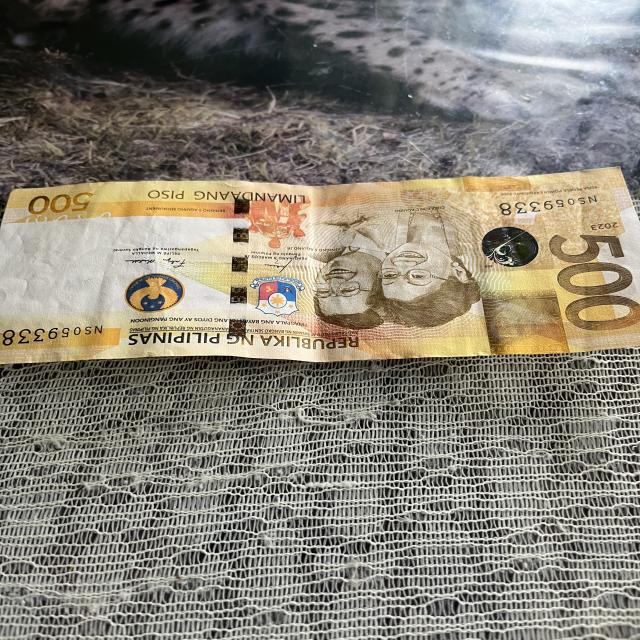concealed_value: (485, 290, 571, 355)
optically_variable_device: (479, 221, 546, 277)
security_thread: (224, 192, 255, 343)
serial_number: (0, 317, 118, 355), (489, 194, 604, 219)
value: (545, 228, 640, 336)
value_watermark: (19, 230, 43, 267)
watermark: (5, 227, 122, 315)
